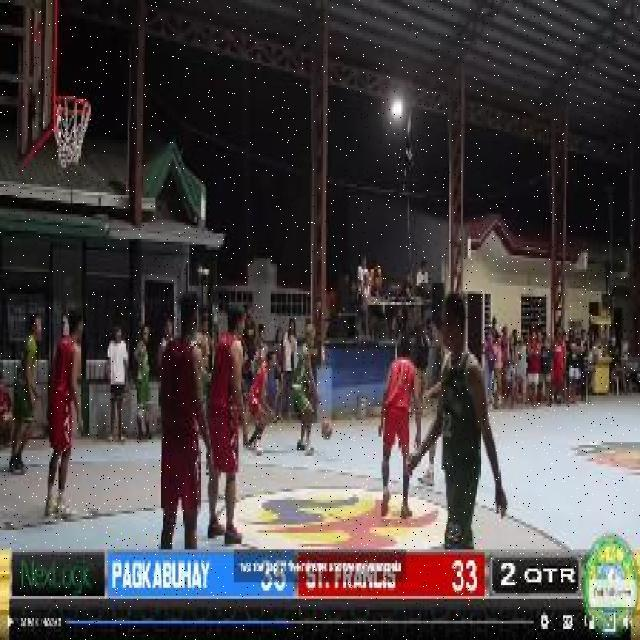ball: (319, 418, 333, 444)
